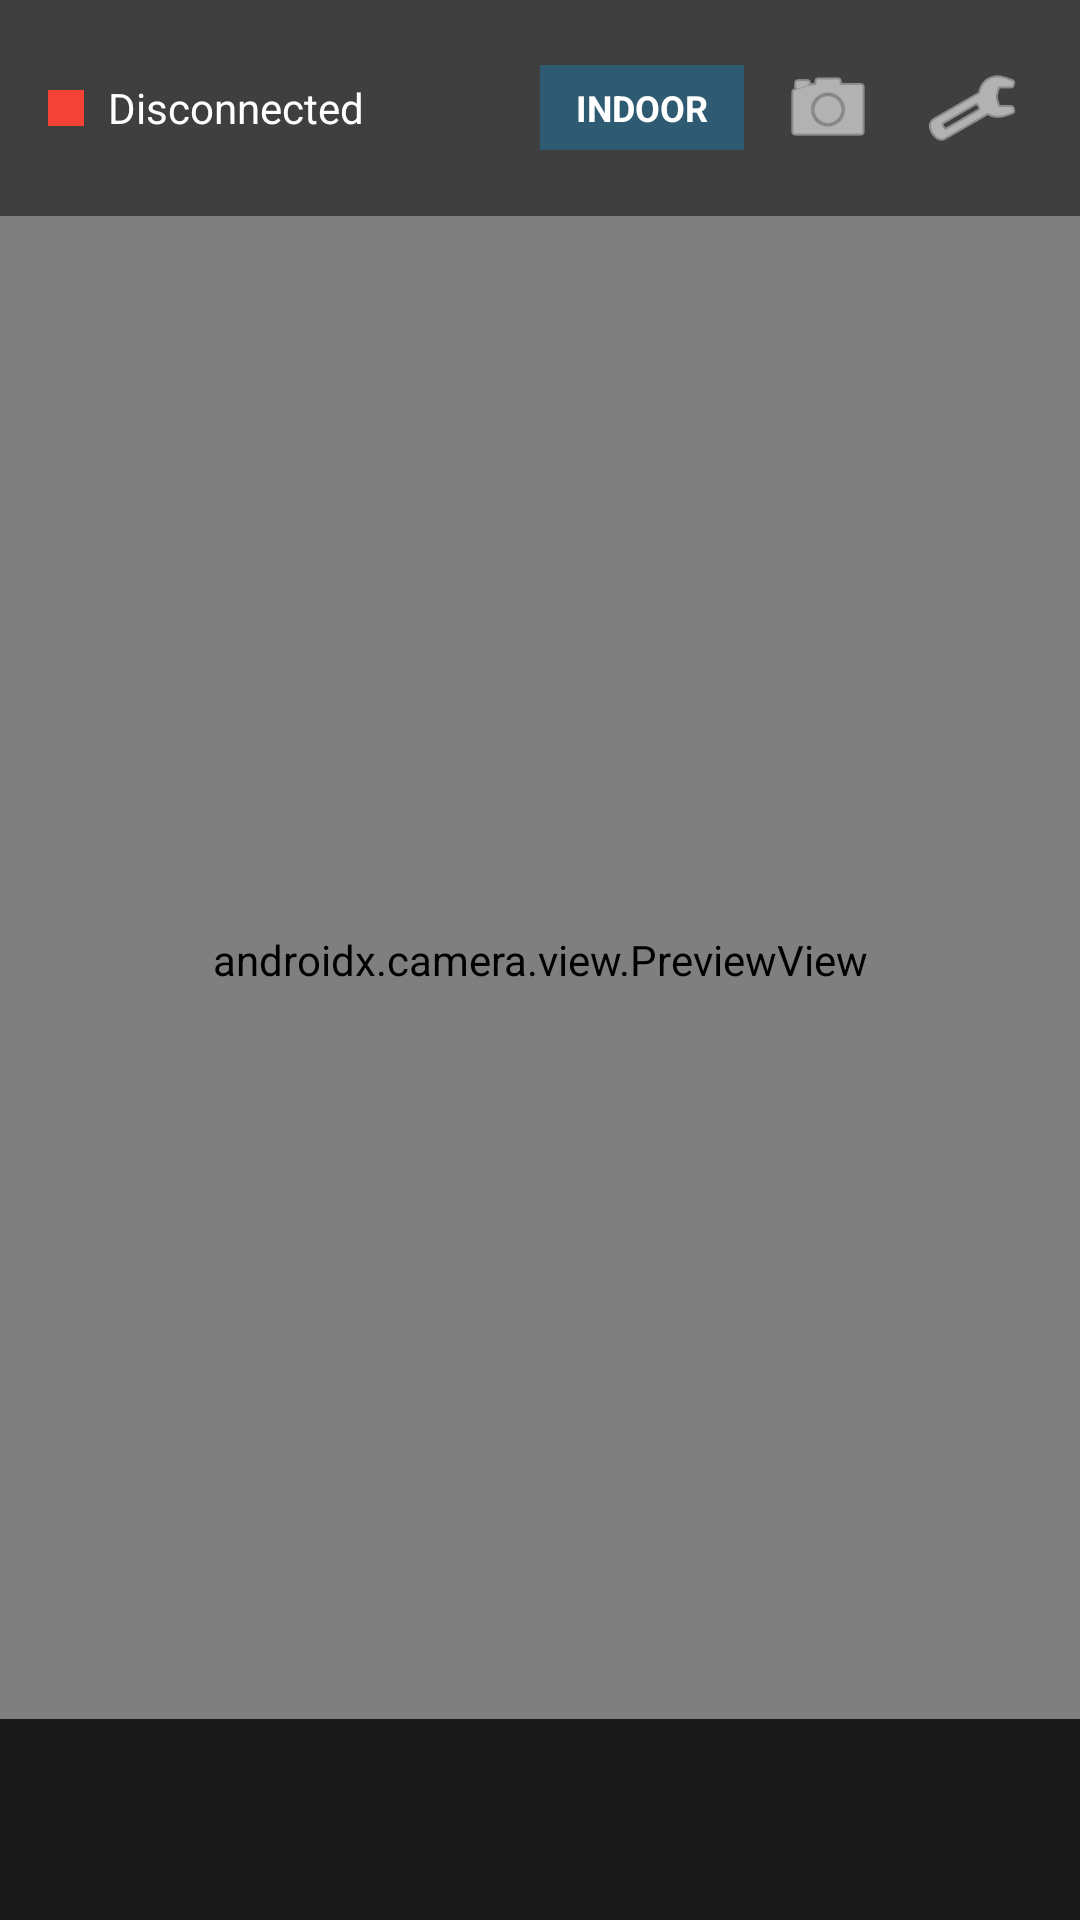

Locate icon controls on the screen. Image size 1080 × 1920, boxes as bbox=[x1, y1, x2, y2].
Settings: bbox=[929, 75, 1015, 141]
